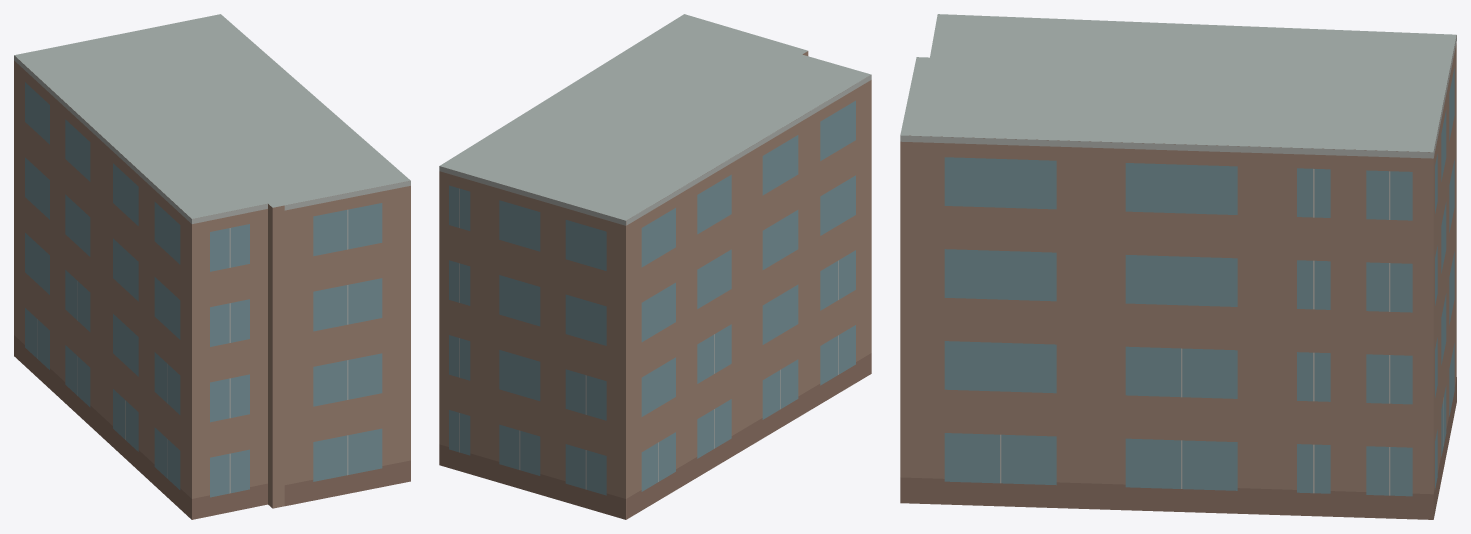
Rendered from survey-upis-33045875.glb.
The picture shows the model from 3 angles, left to right: view 1: azimuth 30°, elevation 25°; view 2: azimuth 150°, elevation 25°; view 3: azimuth 270°, elevation 25°; orthographic projection. The views are drawn at different scales.
Parts seen in each view (by area): view 1: survey-upis-33045875.tmp; view 2: survey-upis-33045875.tmp; view 3: survey-upis-33045875.tmp.
Boxes of the visible parts, x1,y1,x2,y2 form: survey-upis-33045875.tmp: [14, 14, 410, 519]; survey-upis-33045875.tmp: [439, 14, 871, 519]; survey-upis-33045875.tmp: [900, 14, 1456, 519].
Size of the model in its own units: 11.46 by 14.2 by 19.49.
